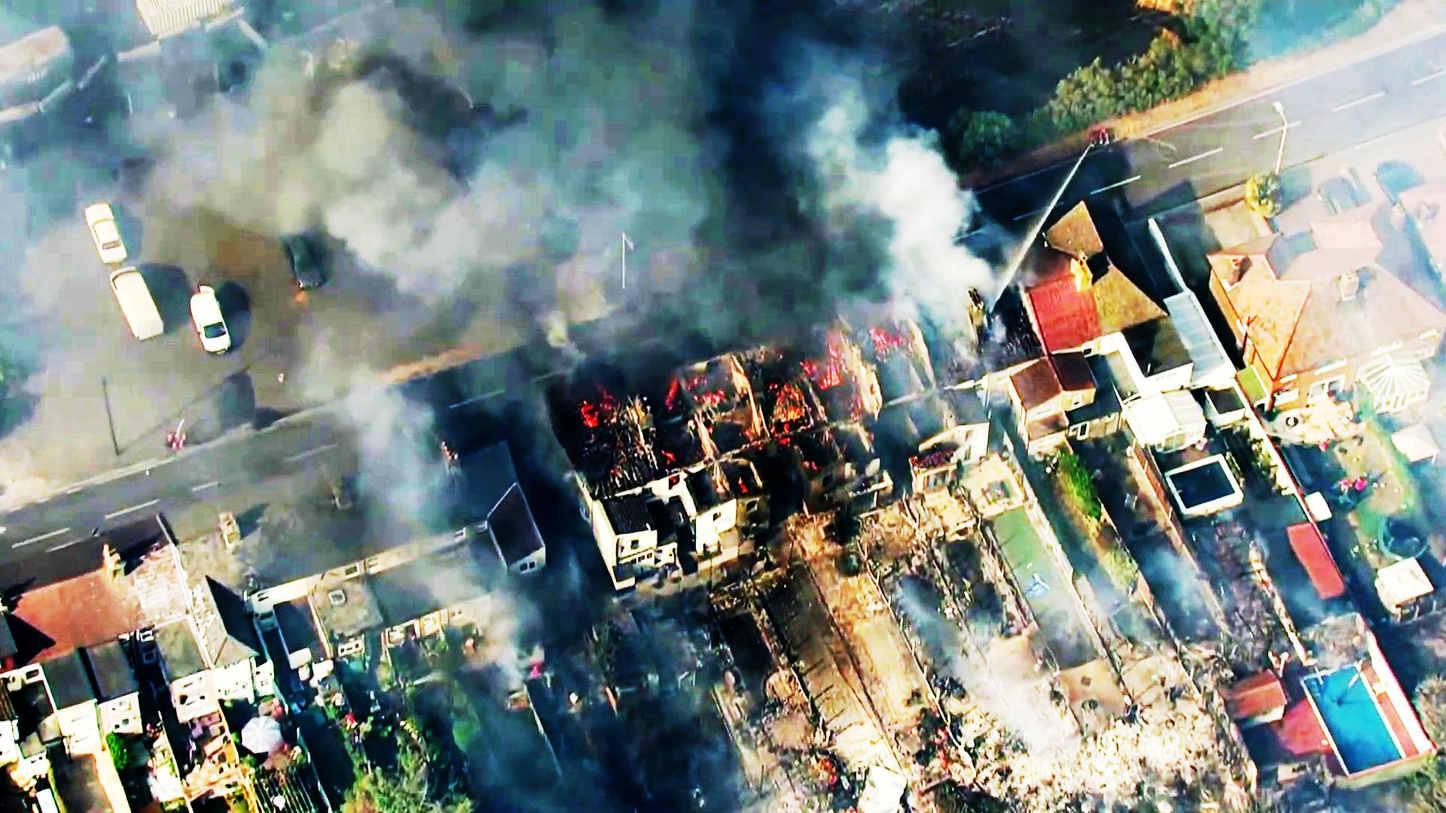smoke: (624, 125, 983, 327)
